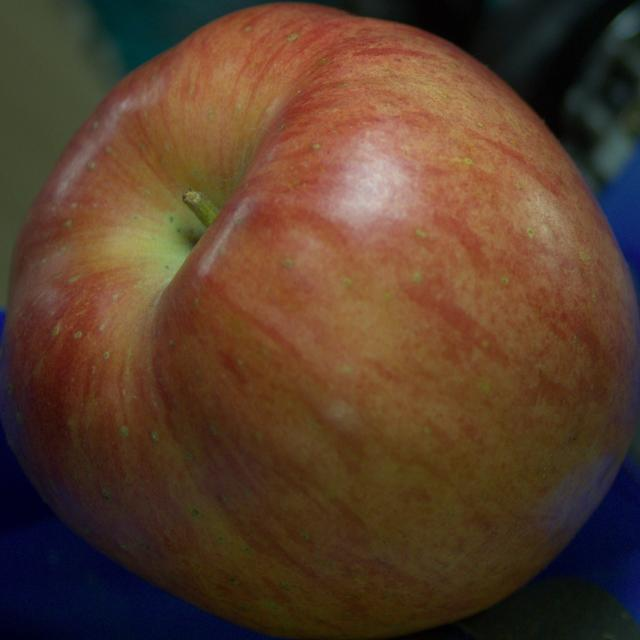apple: (0, 4, 639, 639)
